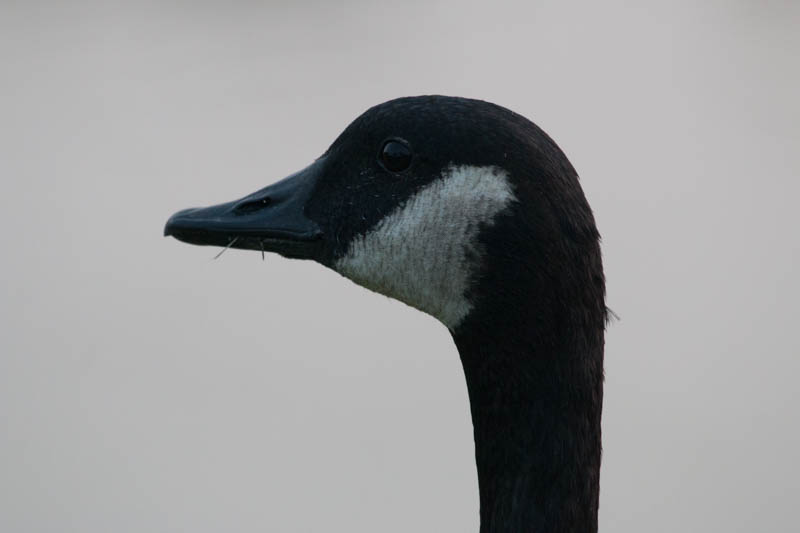goose-head: (165, 93, 607, 337)
